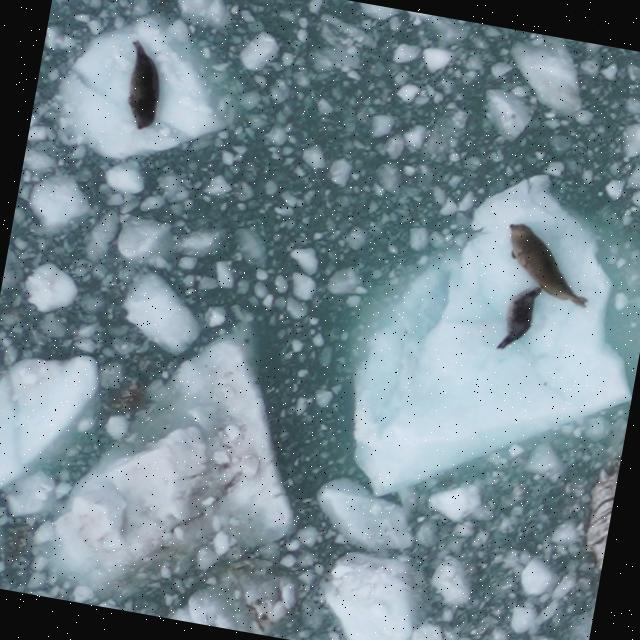seal: (494, 216, 604, 313), (111, 35, 171, 135), (490, 274, 548, 359)
